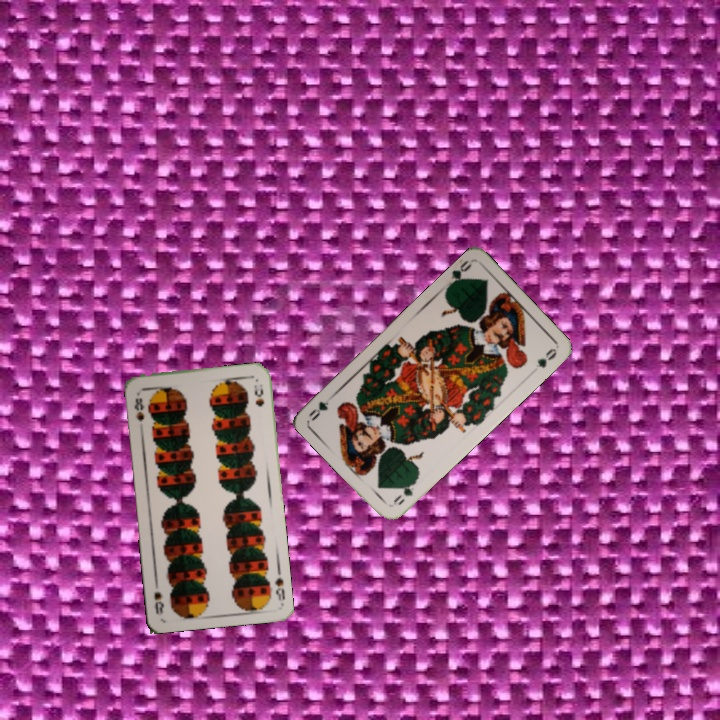GO: (443, 256, 475, 291), (388, 475, 419, 509)
S8: (130, 394, 147, 424), (271, 574, 288, 603)
